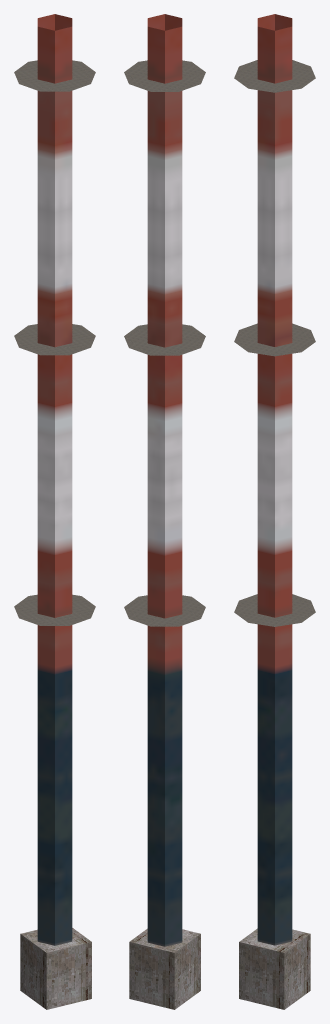
Rendered from lodbigchimney01.obj.
The picture shows the model from 3 angles, left to right: view 1: azimuth 30°, elevation 25°; view 2: azimuth 150°, elevation 25°; view 3: azimuth 330°, elevation 25°; orthographic projection.
Parts seen in each view (by area): view 1: lodbigchimney01; view 2: lodbigchimney01; view 3: lodbigchimney01.
Boxes of the visible parts, x1,y1,x2,y2 form: lodbigchimney01: (14,14,95,1009); lodbigchimney01: (124,14,205,1009); lodbigchimney01: (234,14,315,1009).
Bounding box in the file's own units: 8.01 × 107 × 8.14.
3 materials, 3 textured.
